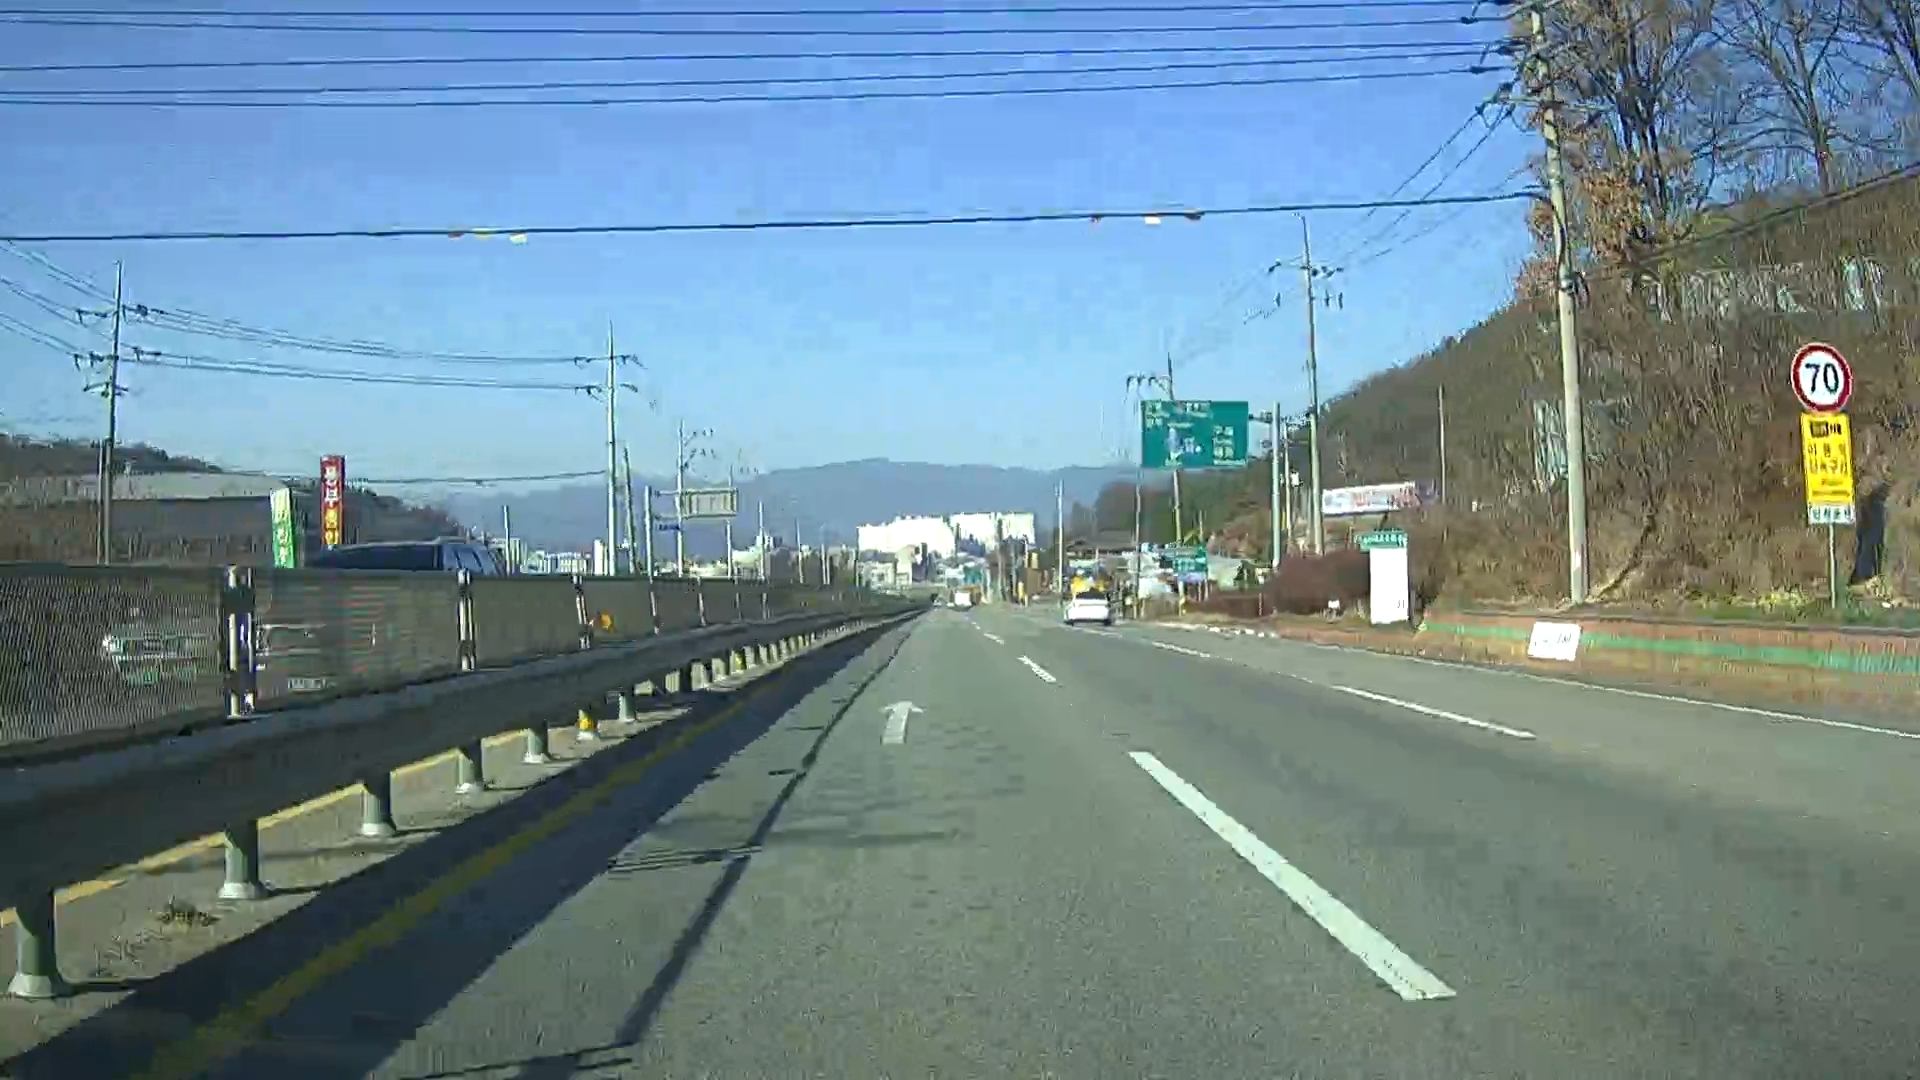trafficSignCircle: (1788, 338, 1853, 410)
